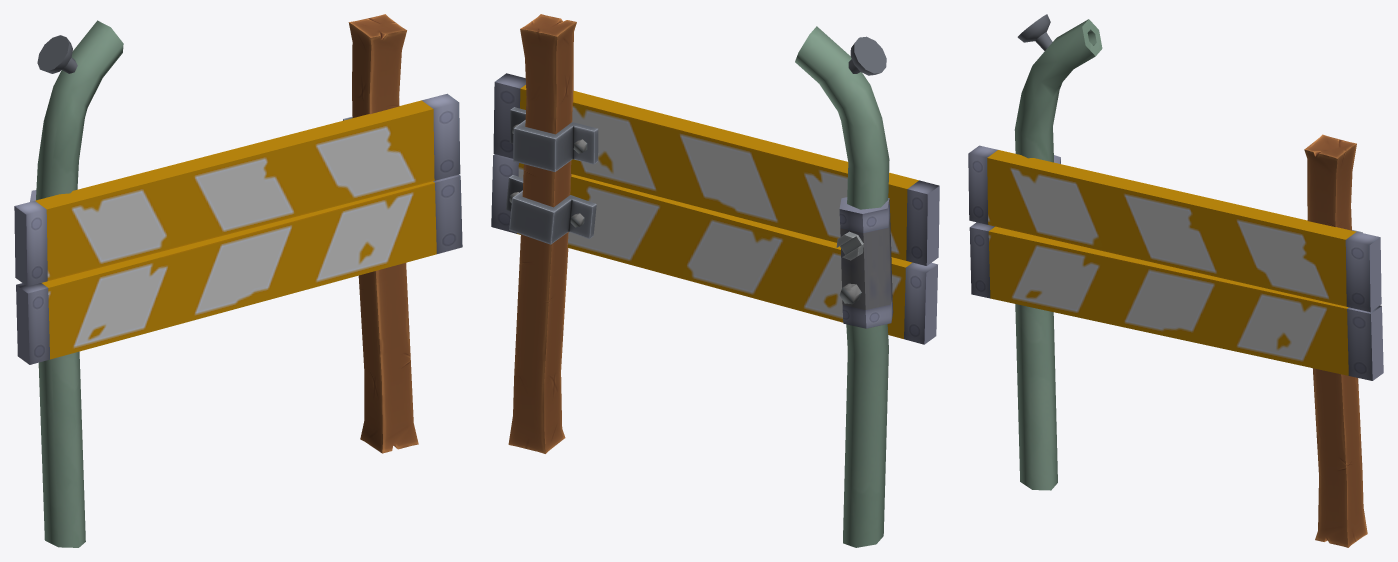
Rendered from hvs_hideout_fence06.fbx.
The picture shows the model from 3 angles, left to right: view 1: azimuth 30°, elevation 25°; view 2: azimuth 150°, elevation 25°; view 3: azimuth 330°, elevation 25°; orthographic projection. The views are drawn at different scales.
Parts seen in each view (by area): view 1: hvs_hideout_fence06; view 2: hvs_hideout_fence06; view 3: hvs_hideout_fence06.
Boxes of the visible parts, x1,y1,x2,y2 form: hvs_hideout_fence06: (14, 14, 462, 547); hvs_hideout_fence06: (491, 14, 939, 547); hvs_hideout_fence06: (968, 14, 1383, 547).
Bounding box in the file's own units: 8.28 × 9.15 × 1.37.
Materials: 1 (1 with a texture image).
